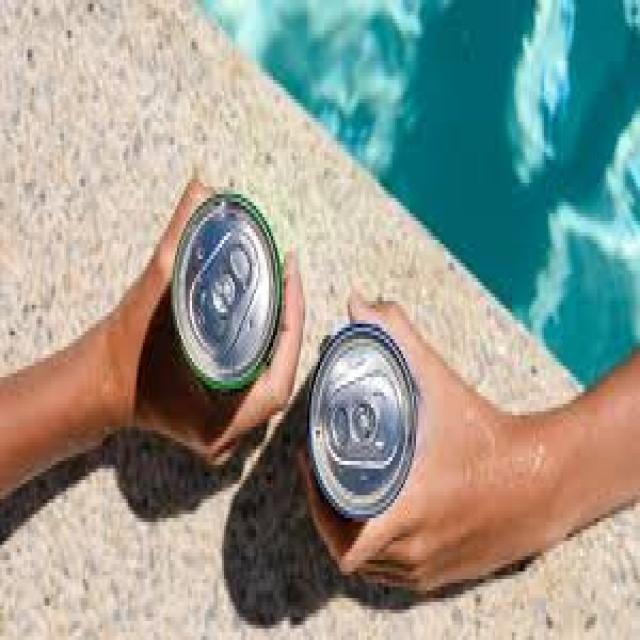Cans: (168, 186, 284, 388)
